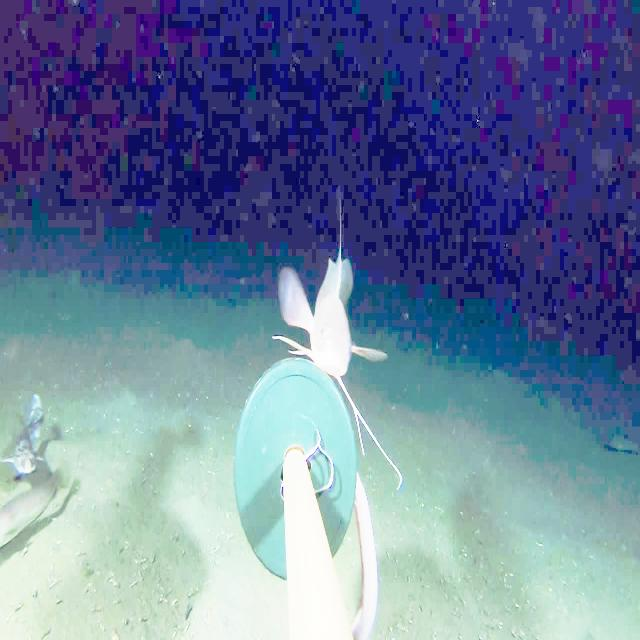eel: (345, 461, 396, 640)
fish: (272, 241, 387, 384), (12, 473, 80, 536), (9, 388, 58, 466)
pole: (230, 395, 354, 582)
